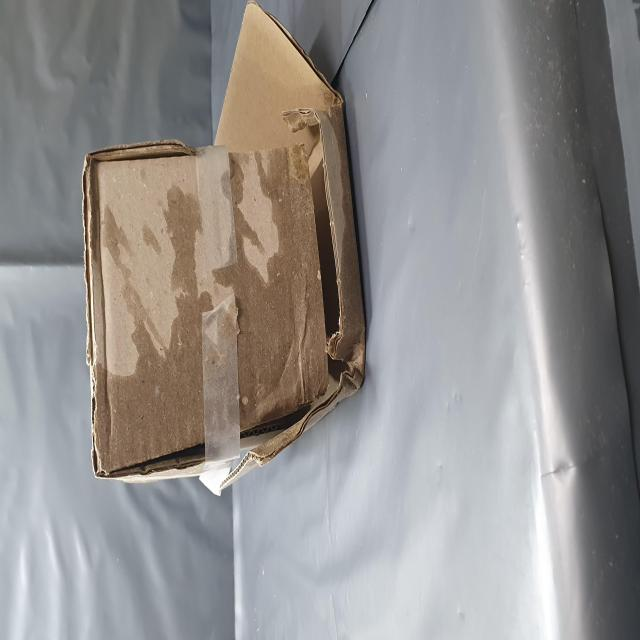wet: (105, 181, 296, 634)
